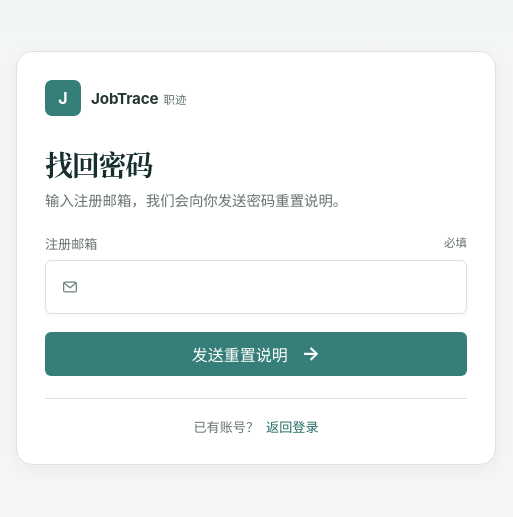
Test: auth forms › sends recovery mail without disclosing whether the email exists
This screenshot has width=513, height=517.
Type "user@example.com" into the field labelled "注册邮箱".
click(256, 287); type("user@example.com")  # box top-left (45, 260), bottom-right (467, 314)
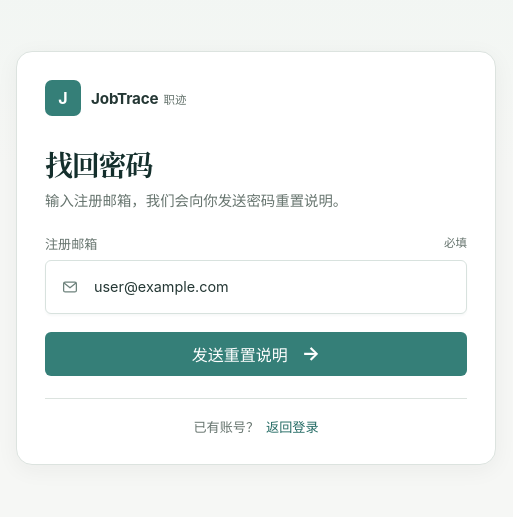
Click the button "发送重置说明 →".
click(256, 354)  # box top-left (45, 332), bottom-right (467, 376)
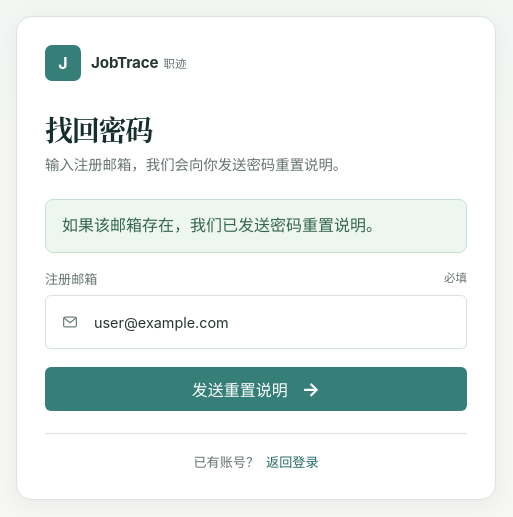
Expected: the message shows "如果该邮箱存在", top-left (62, 215), bottom-right (382, 235)
